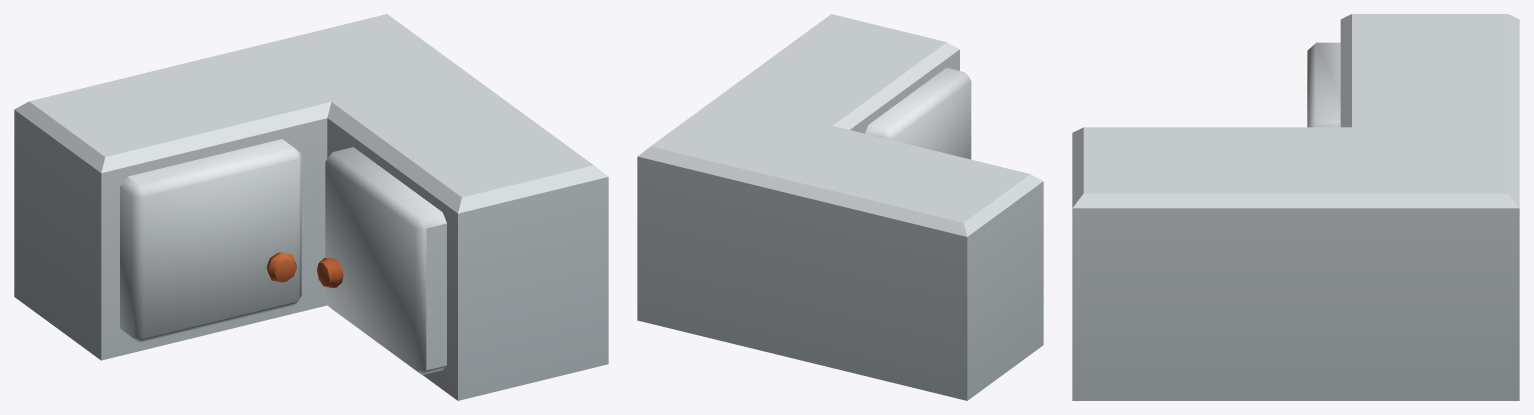
File: kitchencabinet_corner_half.obj
3 renders of one model, left to right at view 1: azimuth 30°, elevation 25°; view 2: azimuth 150°, elevation 25°; view 3: azimuth 270°, elevation 25°, orthographic. The views are drawn at different scales.
Parts seen in each view (by area): view 1: kitchencabinet_corner_half_Cube.217; view 2: kitchencabinet_corner_half_Cube.217; view 3: kitchencabinet_corner_half_Cube.217.
Boxes of the visible parts, bbox=[...] form: kitchencabinet_corner_half_Cube.217: bbox=[14, 14, 608, 400]; kitchencabinet_corner_half_Cube.217: bbox=[637, 14, 1043, 400]; kitchencabinet_corner_half_Cube.217: bbox=[1072, 14, 1519, 400].
Bounding box in the file's own units: 2 × 1 × 2.
1 material, 1 textured.
